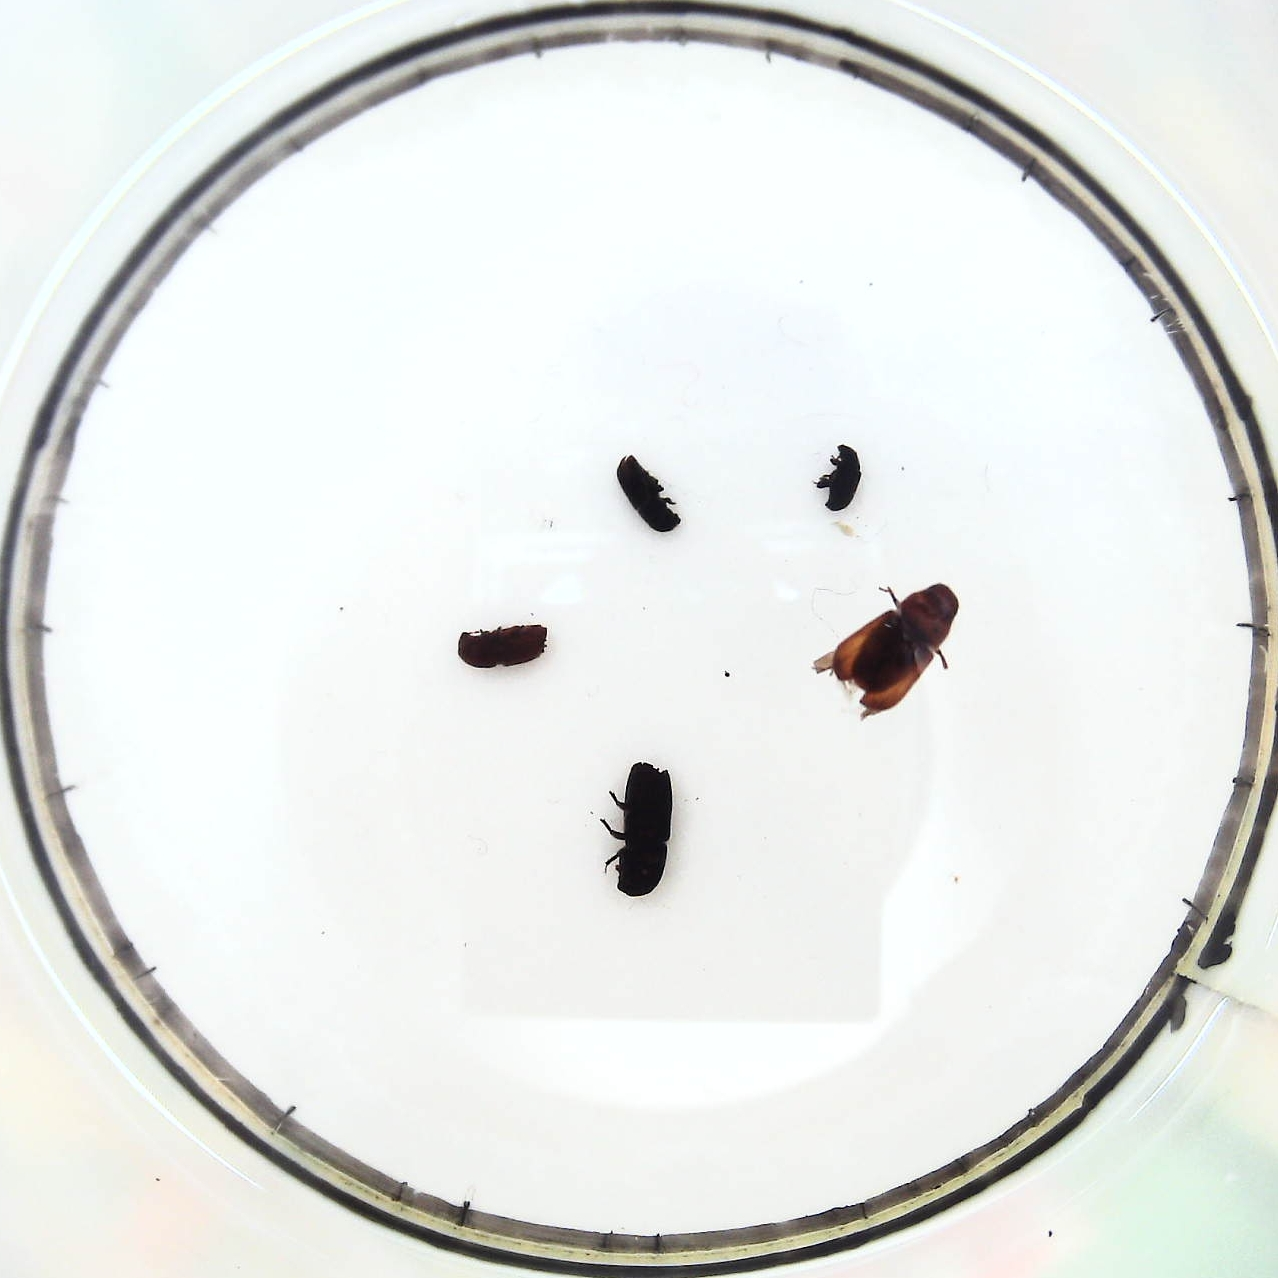Boerner: (602, 756, 674, 901)
Leconte: (810, 580, 962, 717)
Linnaeus: (455, 619, 549, 669)
armandi: (617, 453, 683, 538)
coleoptera: (817, 444, 863, 518)
